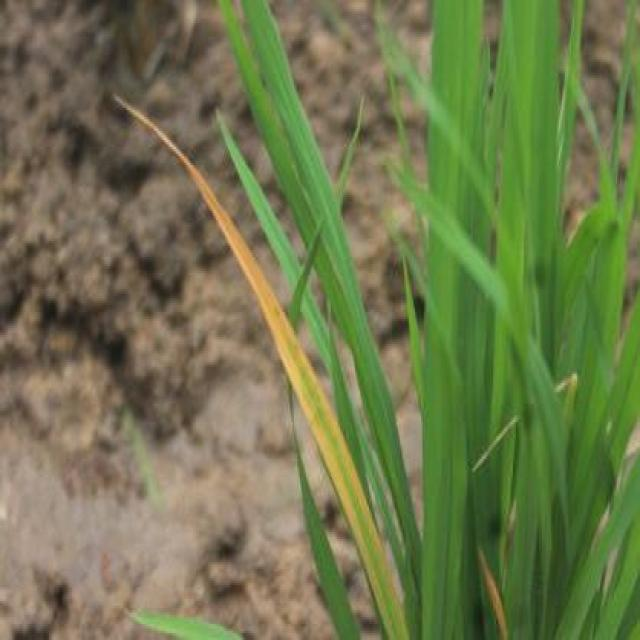Tungro: (112, 79, 376, 581)
